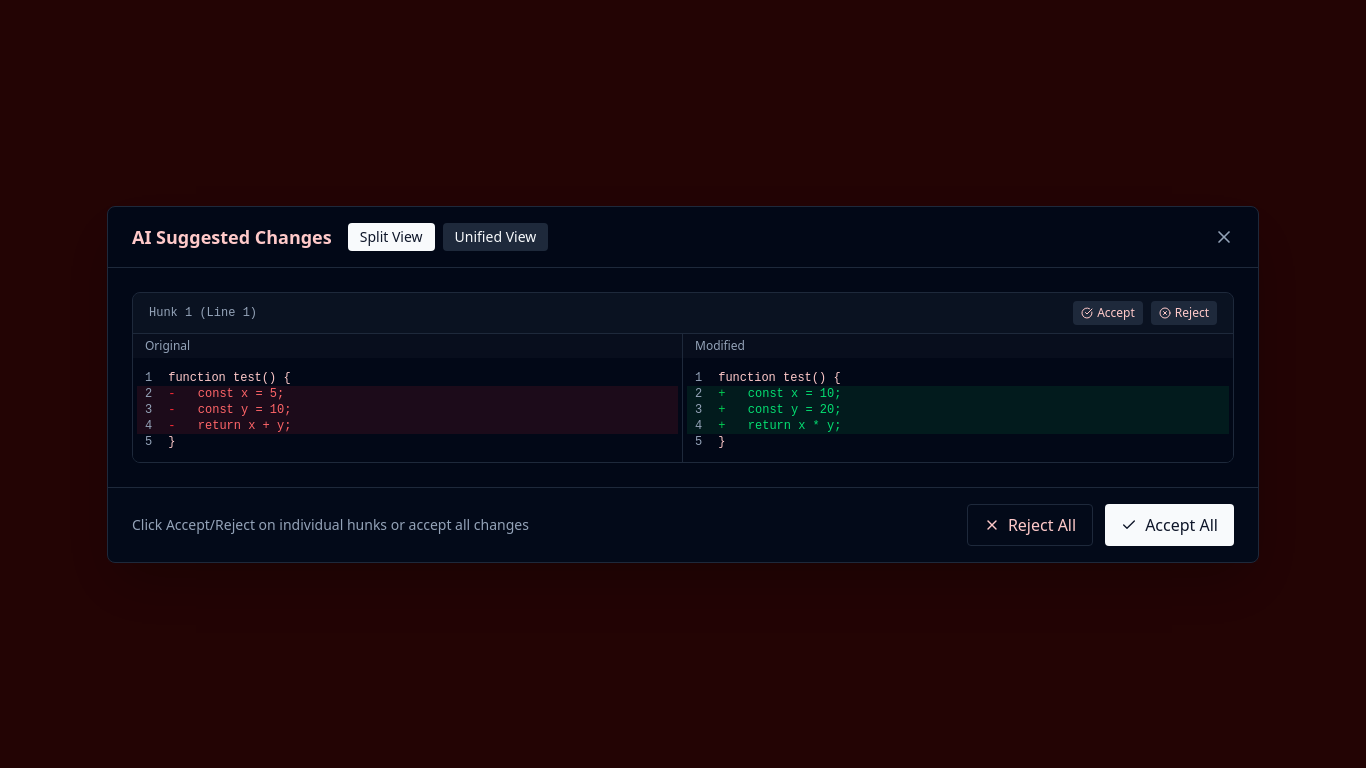
Test: DiffPreview - Per-Hunk Diff Acceptance › toggles hunk rejection state when clicking reject button
This screenshot has width=1366, height=768.
// Click reject
Click the button "Reject": (1184, 312) x1=1151 y1=300 x2=1217 y2=324
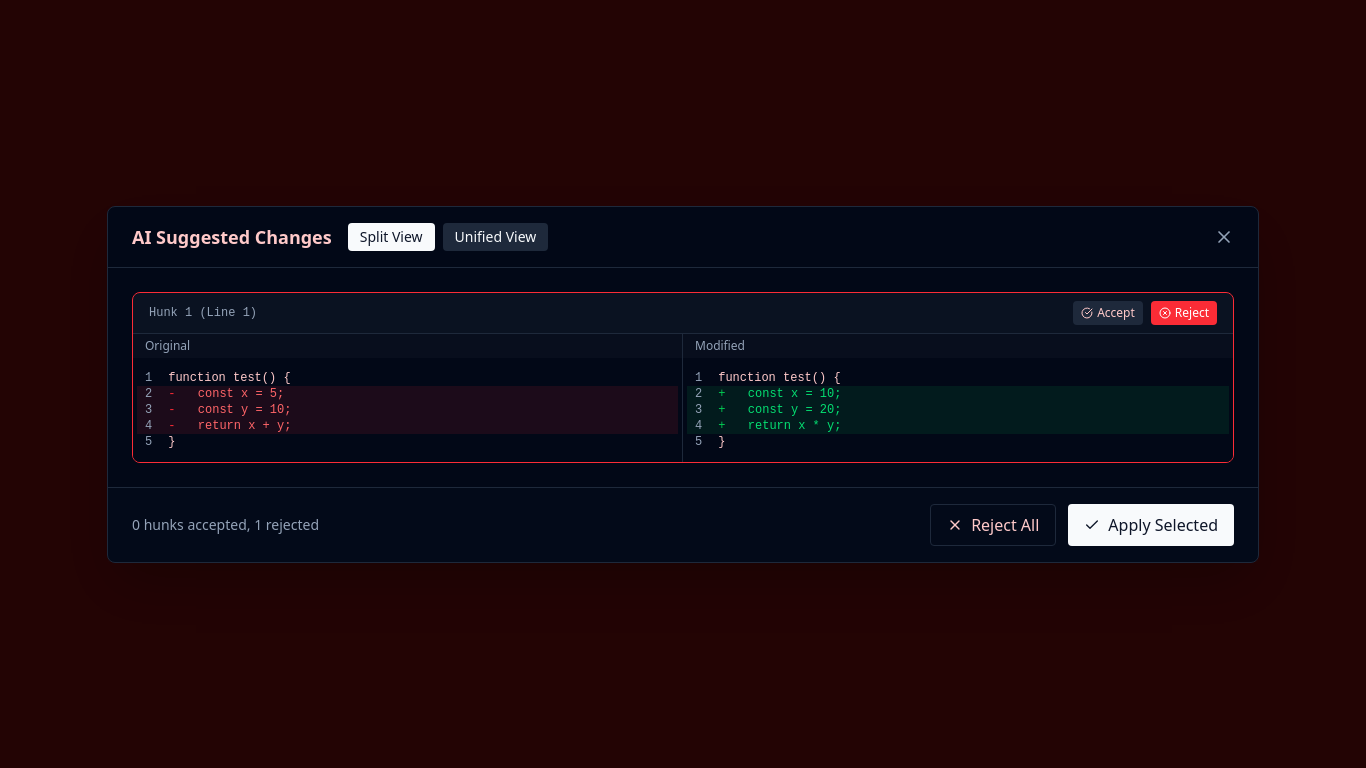
Now the text "0 hunks accepted, 1 rejected" is shown, box x1=132 y1=514 x2=319 y2=534
